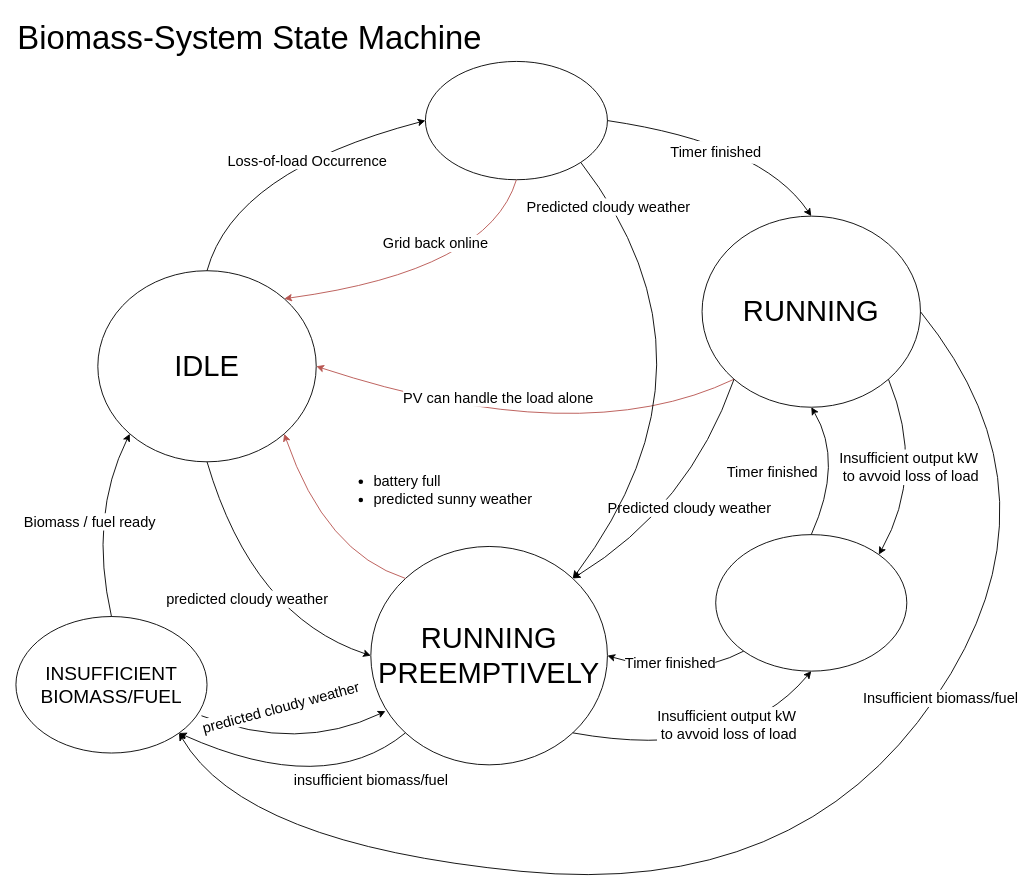
Some shapes in this 1034 by 891 pixel diagram are drawn without their labels. Here are the shapes that lost their labels. From the top down, the centre of each, then its label:
At [516,120]: "STARTING UP".
At [811,602]: "WAITING TO RETRY".
